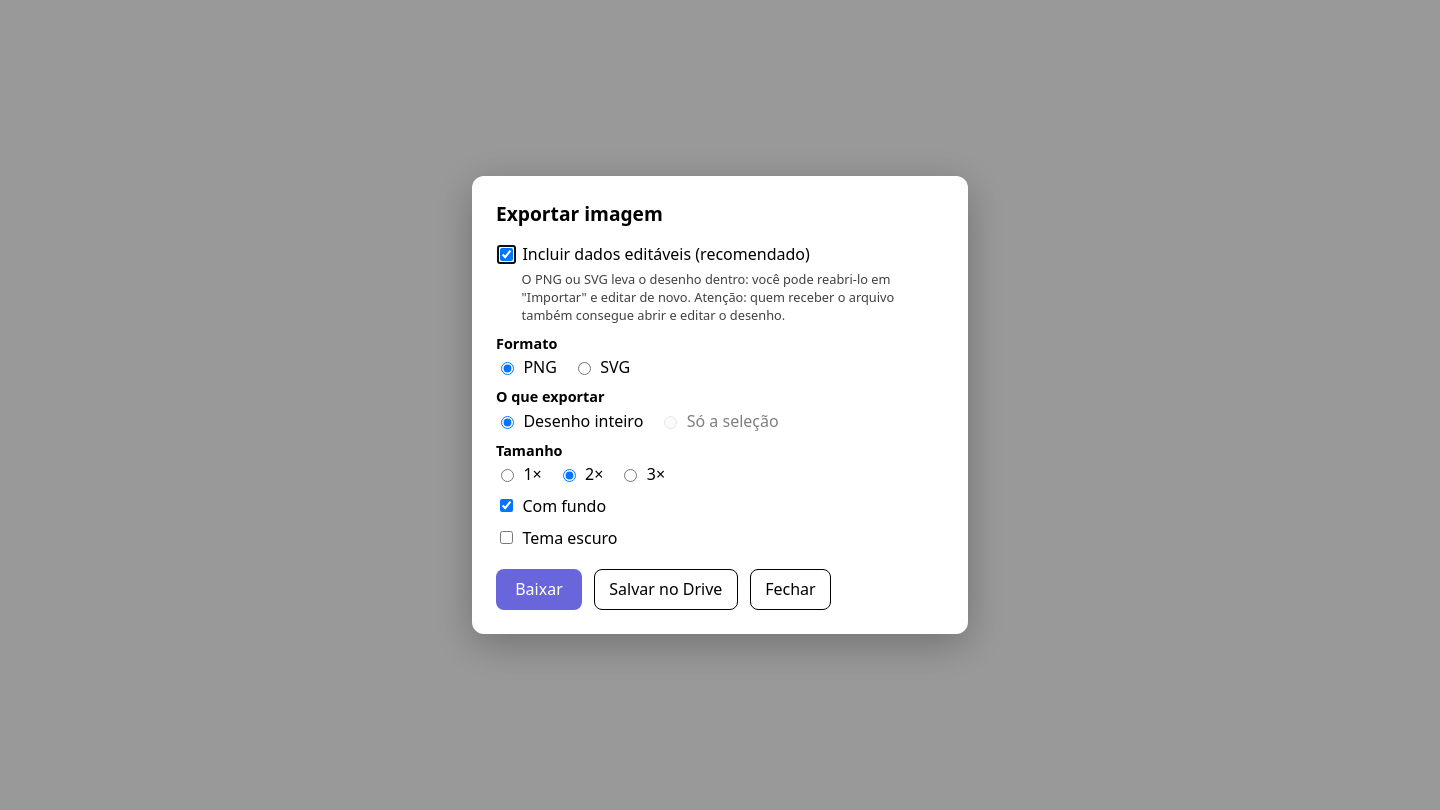
Test: saves the image next to the drawing in Drive and says under which name
Click the button "Salvar no Drive": [666, 589] box x1=594 y1=568 x2=738 y2=610
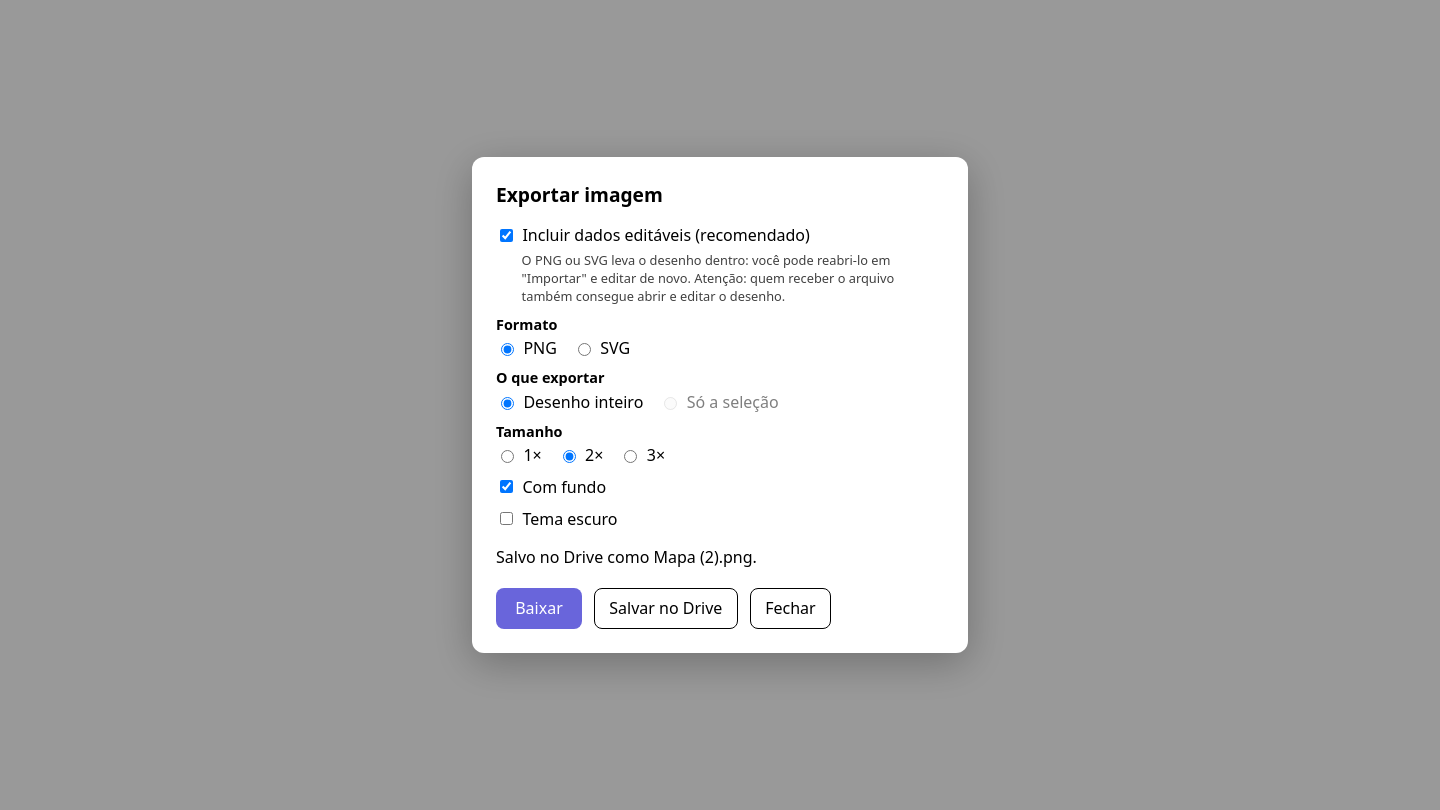
expect the text "Salvo no Drive como Mapa (2).png." is shown: met, box x1=496 y1=546 x2=757 y2=568
